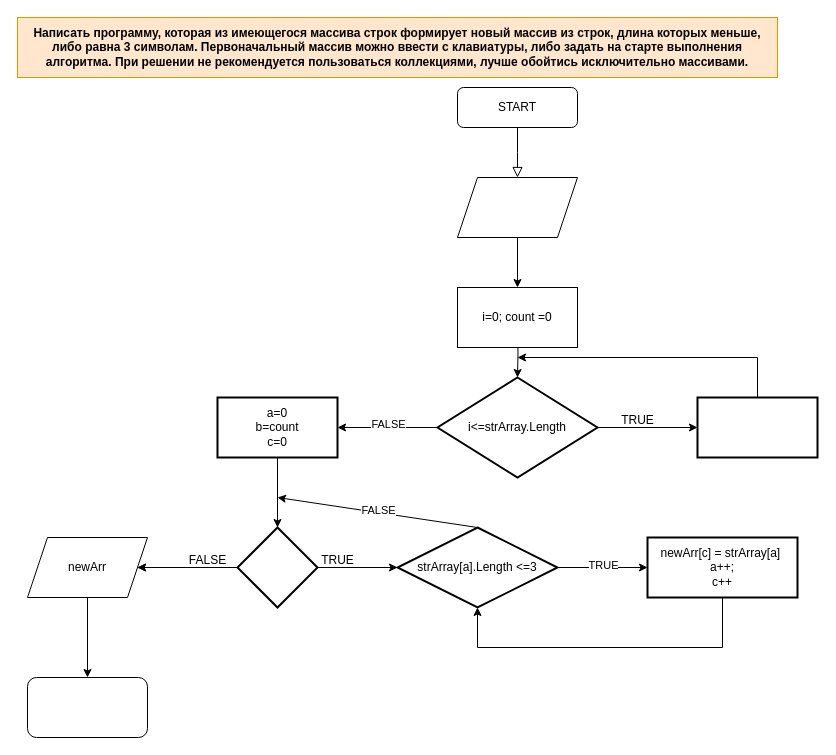
The diagram is 836 pixels wide and 755 high, and some of its shapes have lost their labels. The shapes that lost their labels are listed below. From the top down, each one's box as (x1, y1, x2, y2) in pixels, then its label:
(456, 176, 578, 238): strArray []
(696, 396, 818, 458): count++ i++
(236, 526, 318, 608): a<b
(26, 676, 148, 738): FINISH
